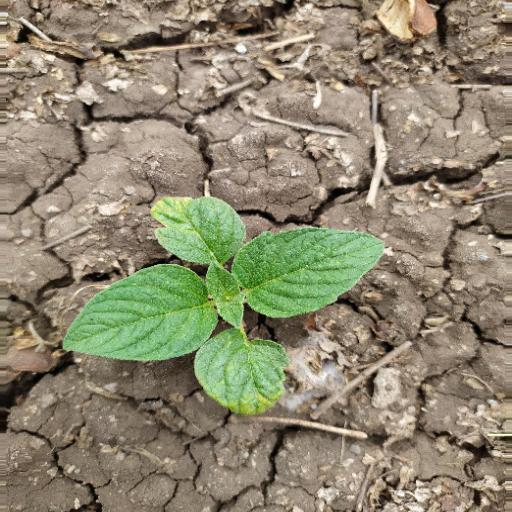crop: (39, 195, 394, 420)
